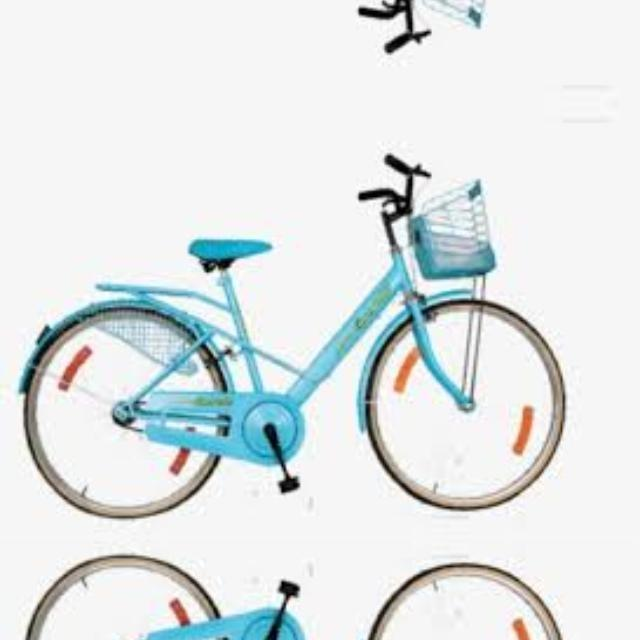obstacle: (4, 135, 588, 528), (3, 545, 588, 640), (3, 0, 588, 71)
